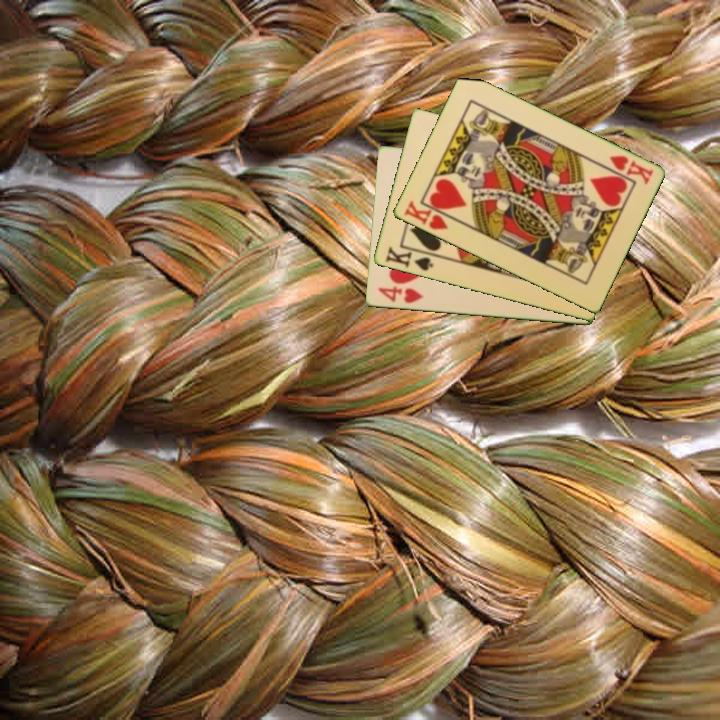4h: (374, 283, 426, 306)
Kh: (400, 197, 457, 233), (605, 152, 656, 188)
Ks: (382, 243, 438, 274)
